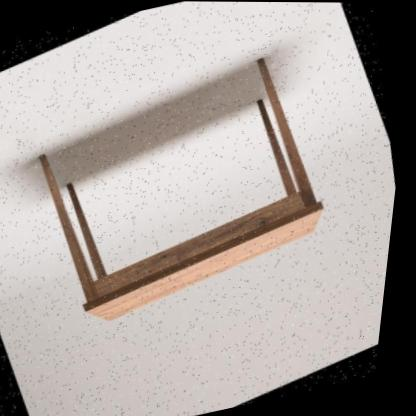Table: (0, 12, 405, 389)
